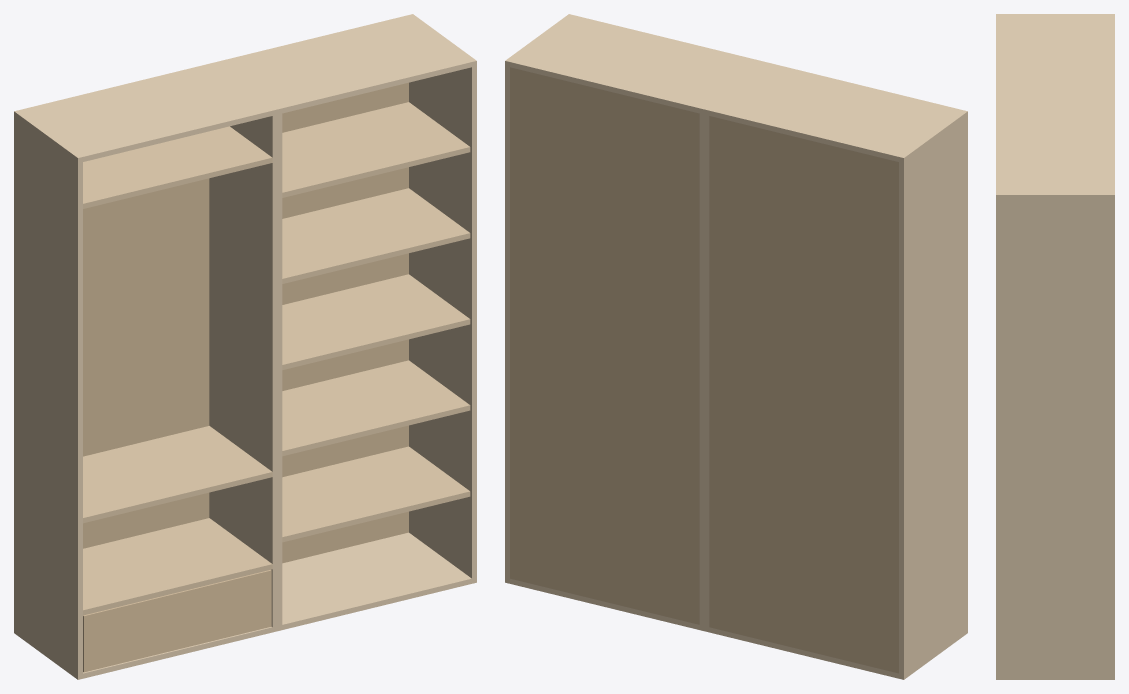
The model's file is closet.glb.
3 views of the same model, side by side, from view 1: azimuth 30°, elevation 25°; view 2: azimuth 150°, elevation 25°; view 3: azimuth 270°, elevation 25° (orthographic). The views are drawn at different scales.
Parts seen in each view (by area): view 1: 001 Mód. A Lateral izq, 005 Mód. A Trasera, 002 Mód. A Lateral der, 016 Mód. B Lateral der, 019 Mód. B Trasera, 018 Mód. B Techo, 004 Mód. A Techo, 006 Mód. A Frente cajón, 017 Mód. B Base, 011 Mód. A Entrepaño sobre cajón, 012 Mód. A Entrepaño ropa, 023 Mód. B Entrepaño 4 (+7 smaller); view 2: 019 Mód. B Trasera, 005 Mód. A Trasera, 001 Mód. A Lateral izq, 018 Mód. B Techo, 004 Mód. A Techo, 015 Mód. B Lateral izq, 002 Mód. A Lateral der, 016 Mód. B Lateral der, 003 Mód. A Base, 017 Mód. B Base; view 3: 016 Mód. B Lateral der, 004 Mód. A Techo, 018 Mód. B Techo, 001 Mód. A Lateral izq, 002 Mód. A Lateral der, 015 Mód. B Lateral izq.
Part boxes in pixels (box(x1,y1,x2,y2)): 001 Mód. A Lateral izq: box(14, 110, 82, 679); 005 Mód. A Trasera: box(83, 178, 209, 548); 002 Mód. A Lateral der: box(209, 62, 277, 632); 016 Mód. B Lateral der: box(408, 14, 476, 583); 019 Mód. B Trasera: box(282, 82, 408, 563); 018 Mód. B Techo: box(219, 15, 471, 113); 004 Mód. A Techo: box(19, 64, 272, 161); 006 Mód. A Frente cajón: box(83, 570, 271, 672); 017 Mód. B Base: box(282, 532, 471, 629); 011 Mód. A Entrepaño sobre cajón: box(83, 518, 272, 615); 012 Mód. A Entrepaño ropa: box(83, 426, 272, 523); 023 Mód. B Entrepaño 4: box(282, 188, 470, 283); 019 Mód. B Trasera: box(510, 67, 699, 624); 005 Mód. A Trasera: box(709, 116, 898, 673); 001 Mód. A Lateral izq: box(899, 110, 967, 679); 018 Mód. B Techo: box(510, 15, 762, 113); 004 Mód. A Techo: box(709, 64, 962, 161); 015 Mód. B Lateral izq: box(699, 61, 767, 631); 002 Mód. A Lateral der: box(704, 62, 772, 632); 016 Mód. B Lateral der: box(505, 14, 573, 583); 003 Mód. A Base: box(709, 627, 898, 678); 017 Mód. B Base: box(510, 578, 699, 629); 016 Mód. B Lateral der: box(996, 192, 1114, 679); 004 Mód. A Techo: box(996, 16, 1114, 102); 018 Mód. B Techo: box(996, 106, 1114, 192); 001 Mód. A Lateral izq: box(996, 14, 1114, 16); 002 Mód. A Lateral der: box(996, 102, 1114, 104); 015 Mód. B Lateral izq: box(996, 104, 1114, 106).
Size of the model in its own units: 1.44 by 1.8 by 0.4.
